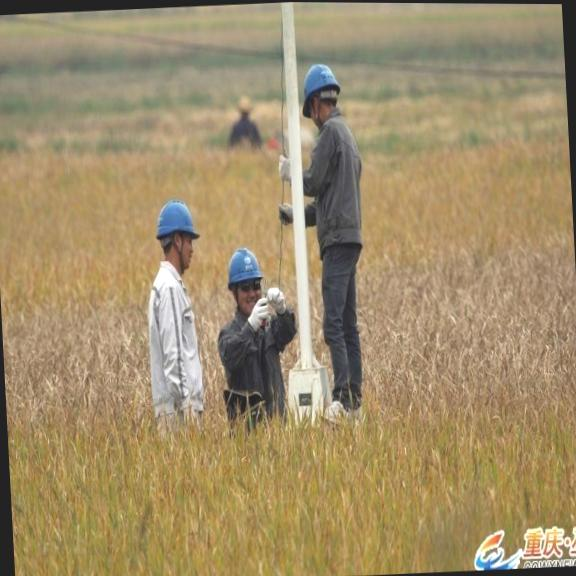no_safety_vest: (304, 115, 368, 243), (150, 259, 198, 401)
